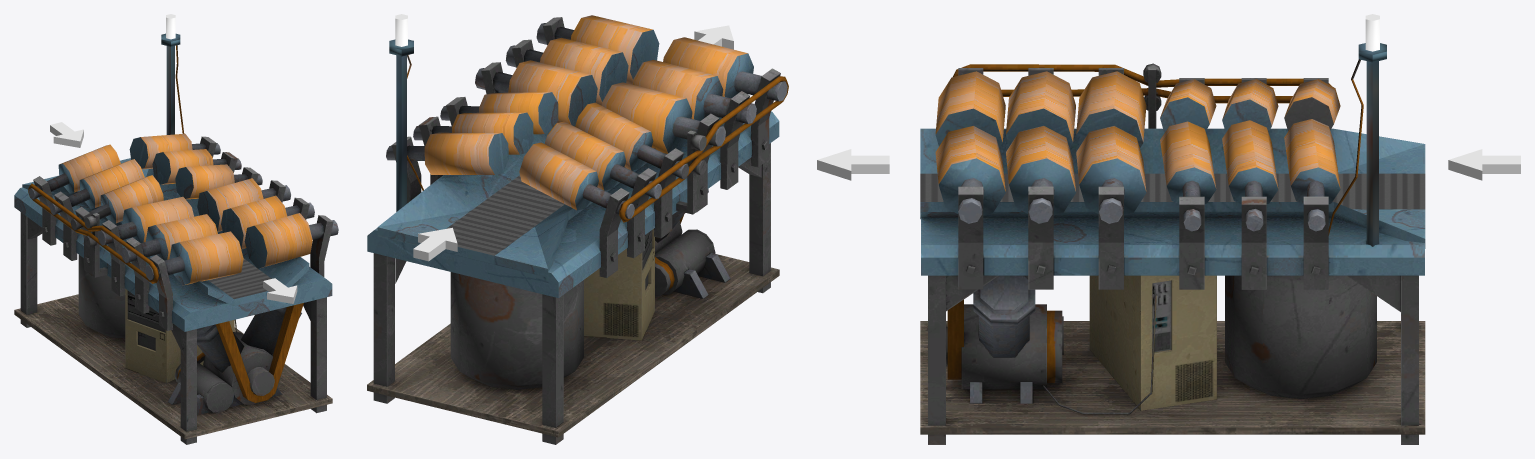
The model's file is PolishingMachine.glb.
3 views of the same model, side by side, from view 1: azimuth 30°, elevation 25°; view 2: azimuth 150°, elevation 25°; view 3: azimuth 270°, elevation 25° (orthographic). The views are drawn at different scales.
Visible parts, largest first — view 1: PolishingMachine, proller3, proller4, proller1, proller2, ghostarrow, ghostarrow (1); view 2: PolishingMachine, proller3, proller1, proller4, proller2, ghostarrow (1), ghostarrow; view 3: PolishingMachine, proller4, proller2, proller3, proller1, ghostarrow, ghostarrow (1).
Boxes of the visible parts, x1,y1,x2,y2 form: PolishingMachine: (14,14,333,444); proller3: (97,196,243,285); proller4: (197,178,338,268); proller1: (29,144,163,230); proller2: (129,133,262,199); ghostarrow: (263,278,297,303); ghostarrow (1): (50,122,83,147); PolishingMachine: (367,14,788,444); proller3: (601,37,787,153); proller1: (519,102,689,218); proller4: (475,15,659,126); proller2: (386,92,558,174); ghostarrow (1): (413,227,457,261); ghostarrow: (694,25,733,49); PolishingMachine: (920,14,1425,444); proller4: (935,126,1146,223); proller2: (1160,119,1340,231); proller3: (935,71,1146,147); proller1: (1160,79,1340,132); ghostarrow: (817,149,889,180); ghostarrow (1): (1448,149,1520,180).
Bounding box in the file's own units: 1.26 × 1.85 × 2.79.
Materials: 5 (3 with a texture image).
